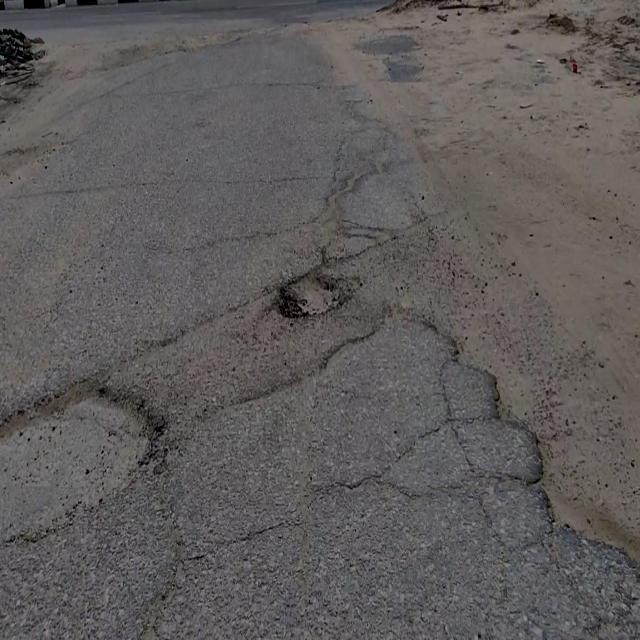pothole: (496, 354, 640, 562), (0, 381, 167, 554), (281, 273, 346, 321)
